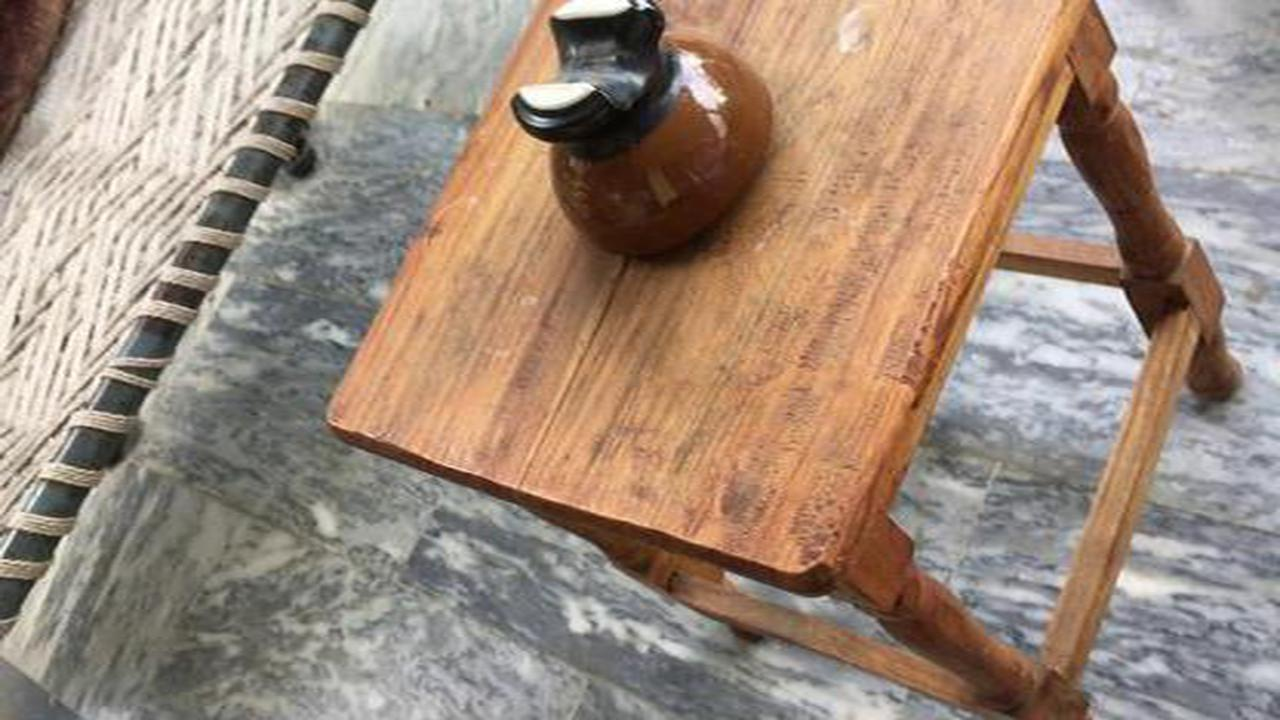insulator_pin: (493, 4, 791, 269)
